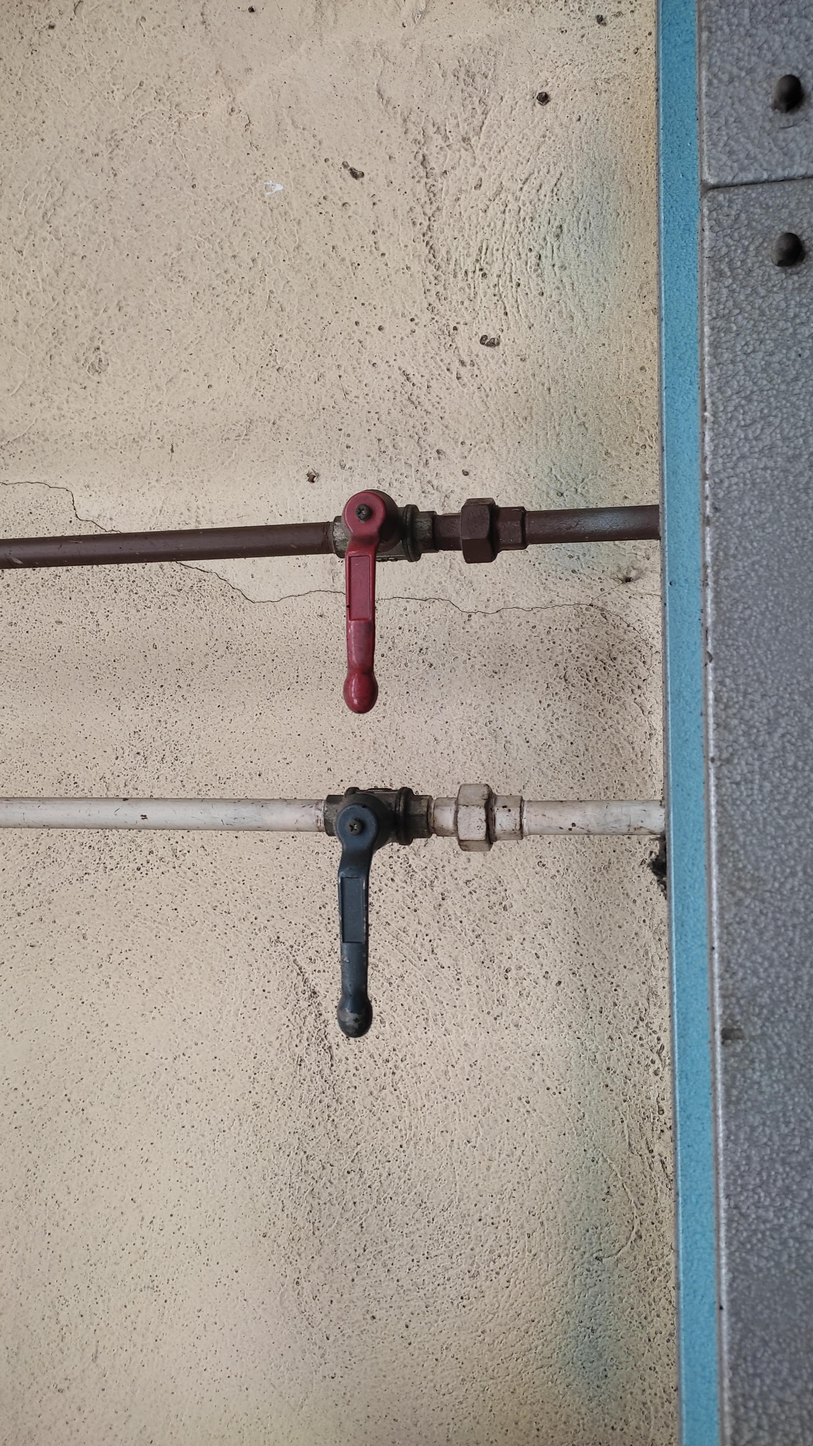closed valve: (323, 780, 435, 1040), (326, 485, 431, 719)
